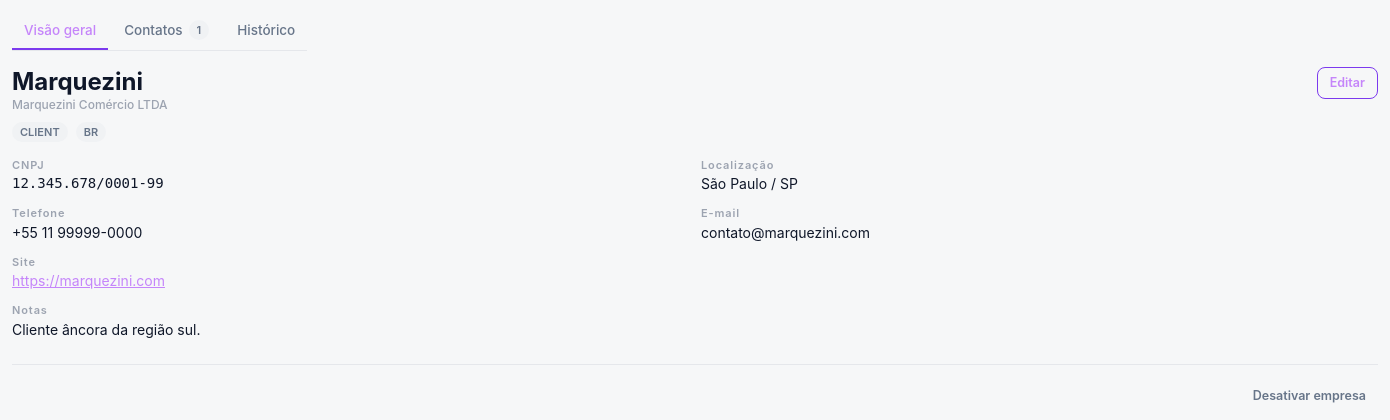
CompanyDetailContent — interações (housekeeping) › troca para a aba Contatos e mostra contatos vinculados
The width and height of the screenshot is (1390, 420).
Click the tab "Contatos 1": coordinates (167, 31) [112,12,221,50]
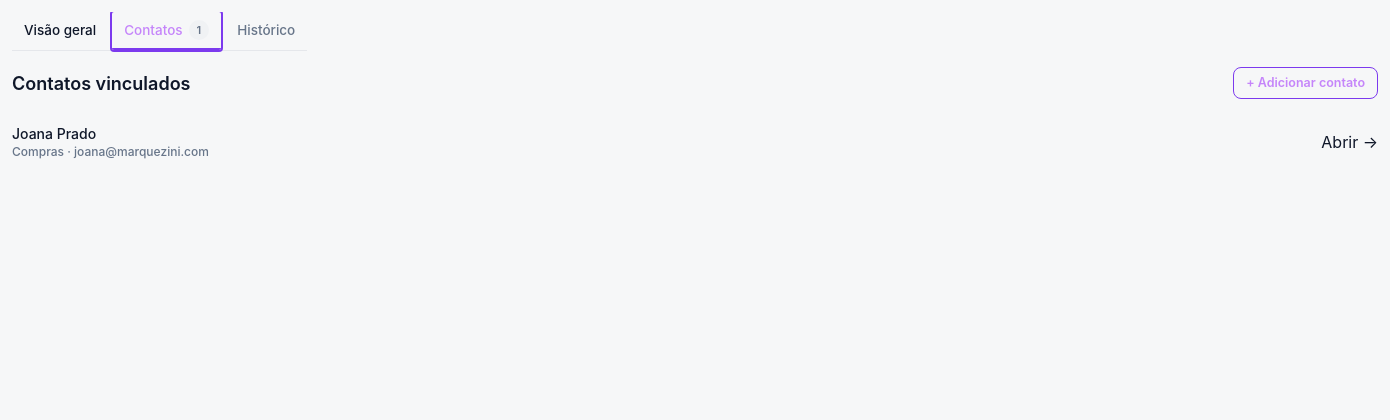
expect the heading "Contatos vinculados" is shown: met, box [12,72,190,95]
expect the text "Joana Prado" is shown: met, box [12,125,96,142]
